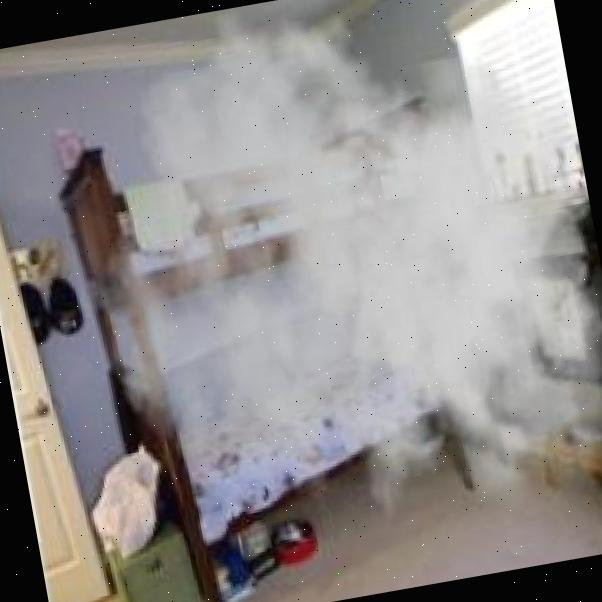smoke: (50, 0, 602, 597)
